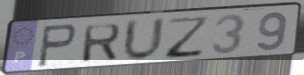3: (212, 12, 249, 57)
9: (255, 10, 290, 53)
P: (35, 22, 79, 69)
R: (80, 22, 123, 64)
U: (121, 16, 168, 63)
Z: (165, 14, 212, 60)
